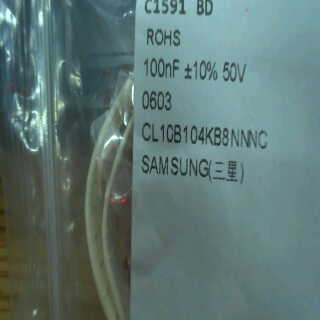100nF: (144, 58, 181, 79)
